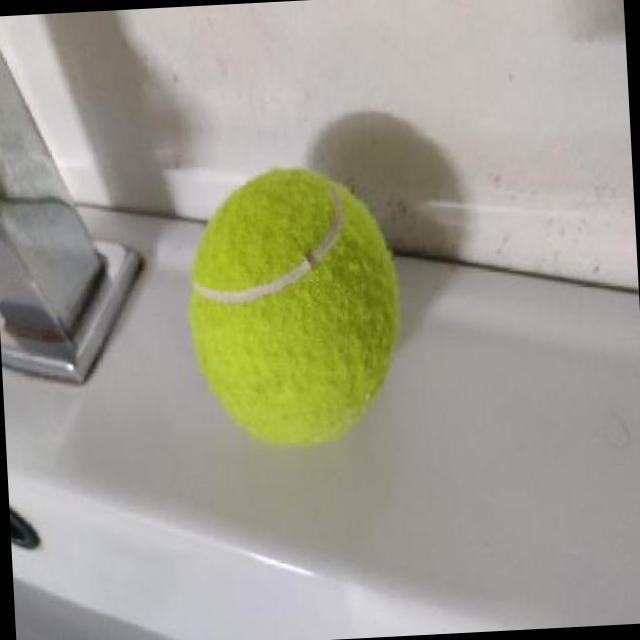-: (173, 151, 416, 470)
